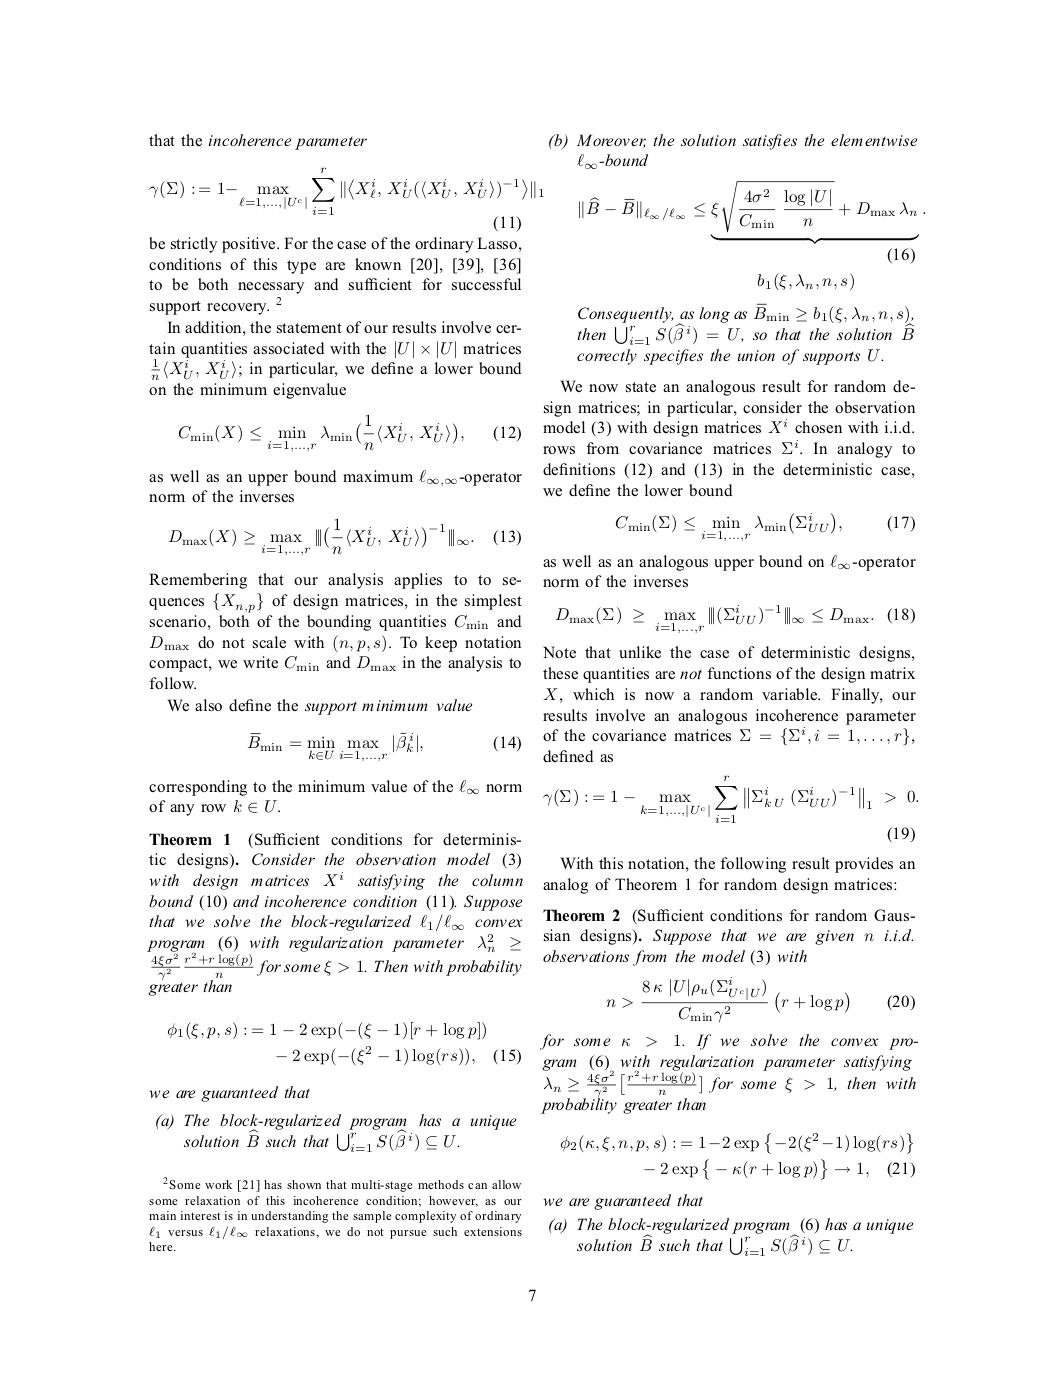formula: (580, 181, 925, 290), (149, 167, 543, 231), (543, 775, 918, 822), (606, 976, 914, 1023), (168, 517, 520, 556), (178, 413, 520, 452), (555, 604, 914, 634), (615, 512, 914, 542), (247, 731, 520, 762), (559, 1132, 912, 1153), (167, 1021, 485, 1040), (644, 1158, 914, 1180), (276, 1045, 520, 1067)
